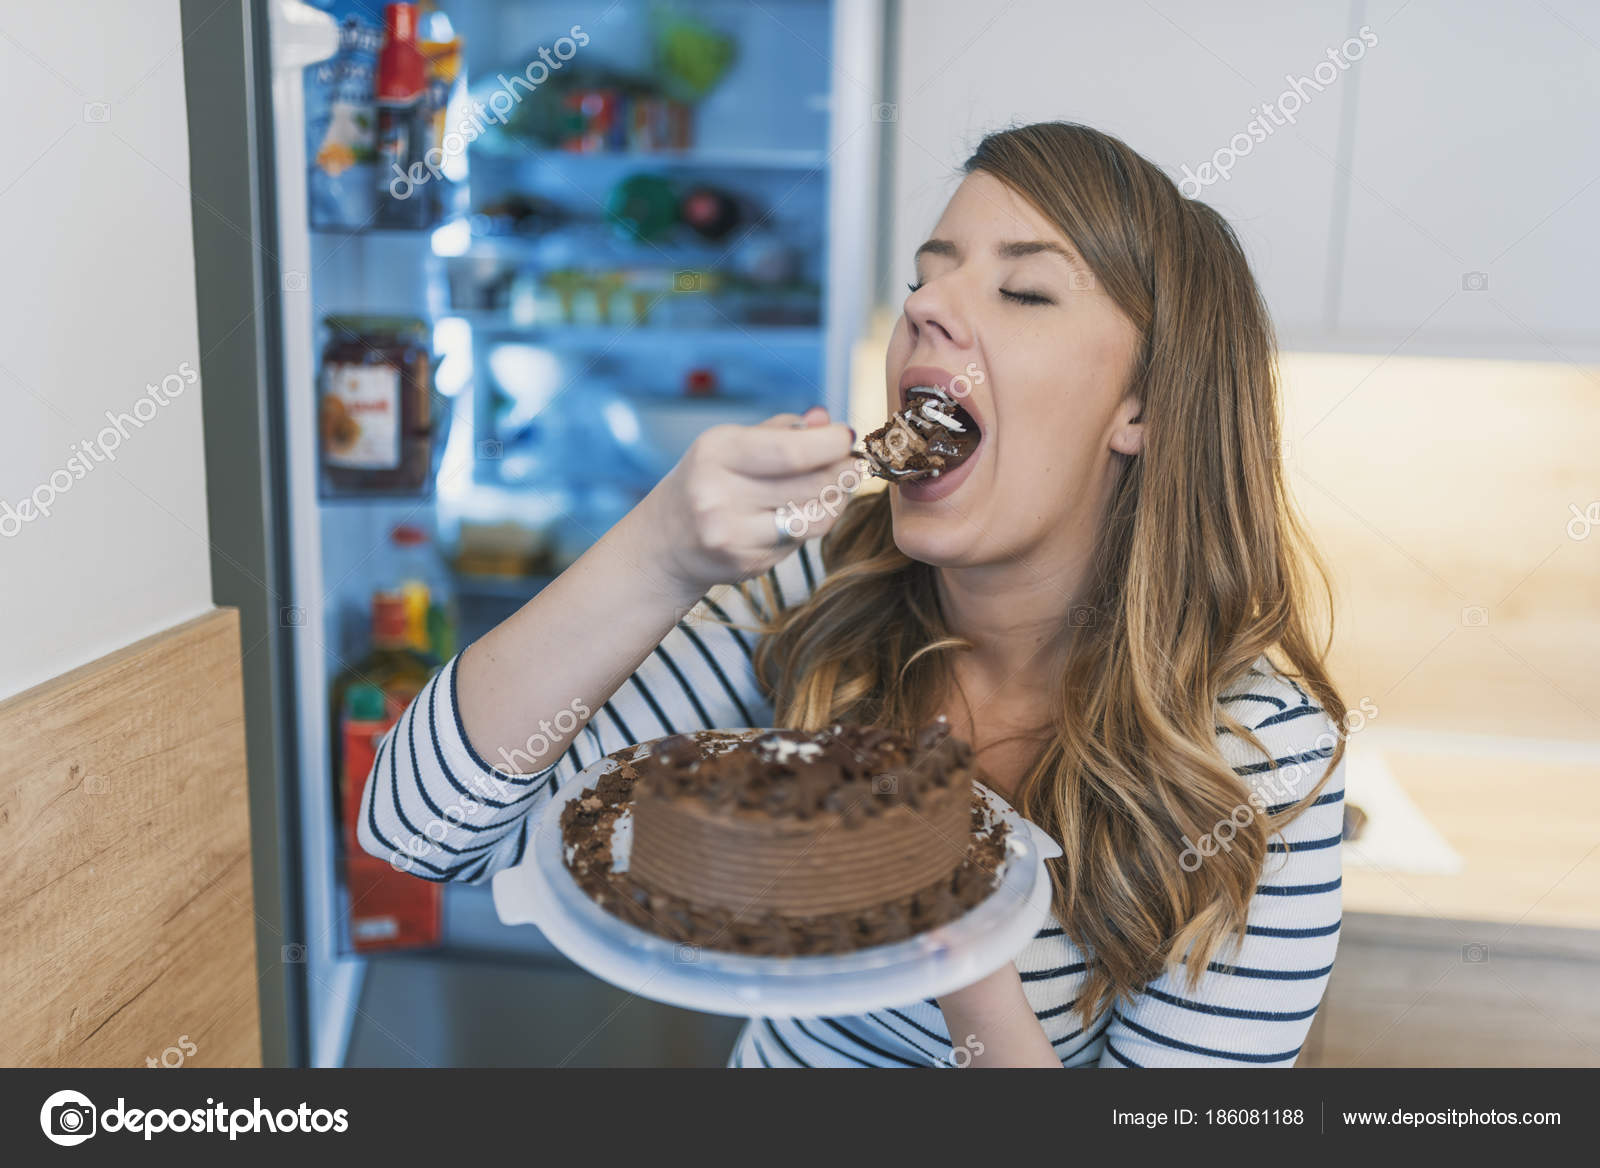eating: (576, 107, 1350, 941)
